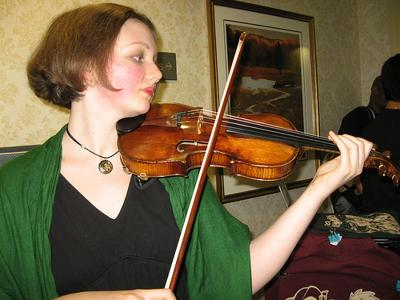person: (2, 6, 376, 299)
